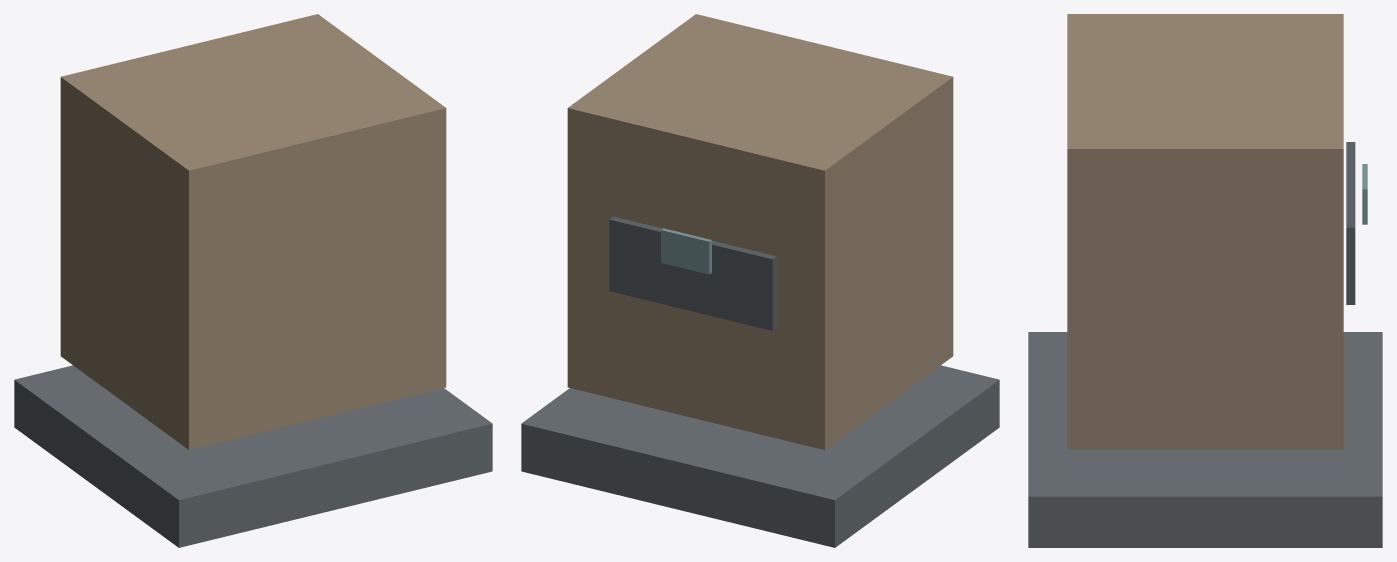
Rendered from iz3_military_checkpoint_02.glb.
The picture shows the model from 3 angles, left to right: view 1: azimuth 30°, elevation 25°; view 2: azimuth 150°, elevation 25°; view 3: azimuth 270°, elevation 25°; orthographic projection. The views are drawn at different scales.
Visible parts, largest first — view 1: cabinet, base; view 2: cabinet, base, panel, display; view 3: cabinet, base, panel.
Boxes of the visible parts, left/top/right/bottom form: cabinet: left=60, top=14, right=446, bottom=449; base: left=14, top=365, right=492, bottom=547; cabinet: left=567, top=14, right=953, bottom=449; base: left=521, top=365, right=999, bottom=547; panel: left=609, top=216, right=776, bottom=330; display: left=661, top=228, right=711, bottom=274; cabinet: left=1067, top=14, right=1343, bottom=449; base: left=1028, top=332, right=1382, bottom=547; panel: left=1346, top=142, right=1355, bottom=304.
Bounding box in the file's own units: 2.2 × 2.39 × 2.
